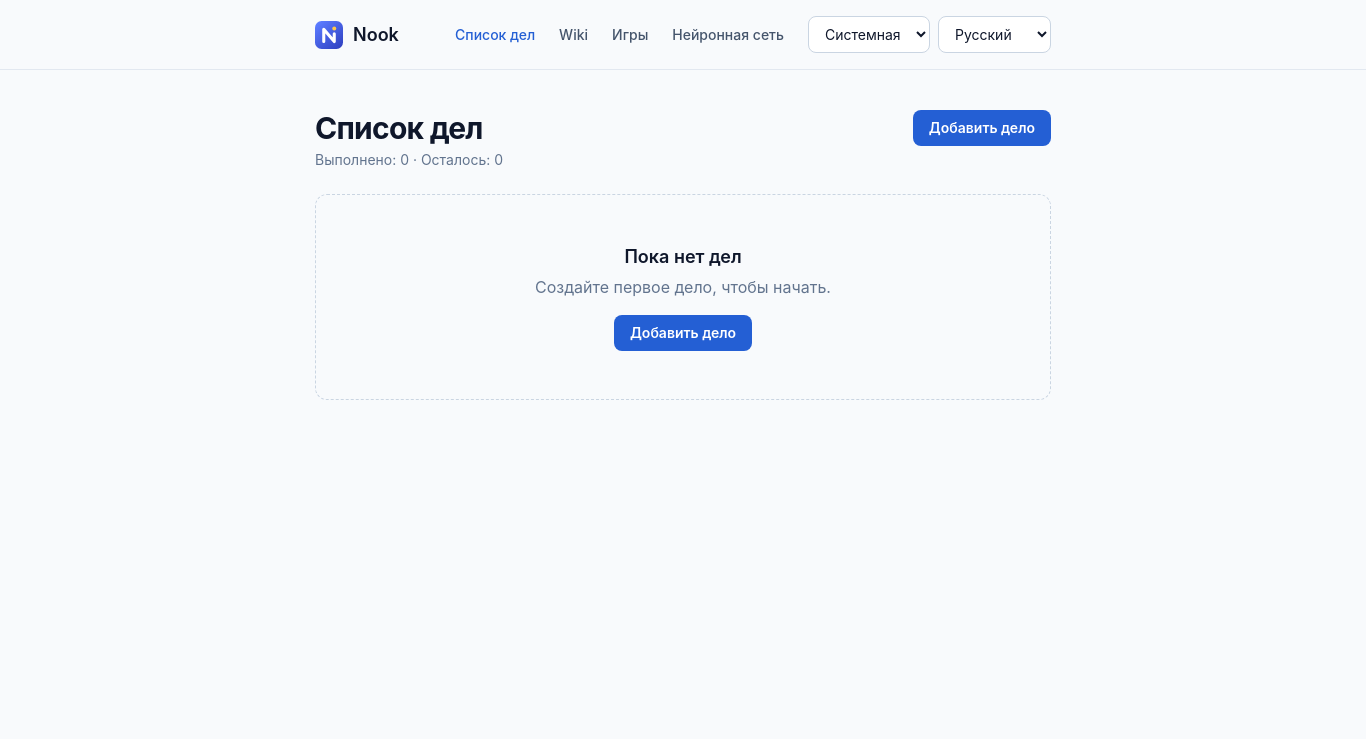
Scenario: /neural-network › opens from the navbar with the whole lab on the page
This screenshot has width=1366, height=739.
Click the link "Нейронная сеть" at (728,34), box [672,26,784,42]
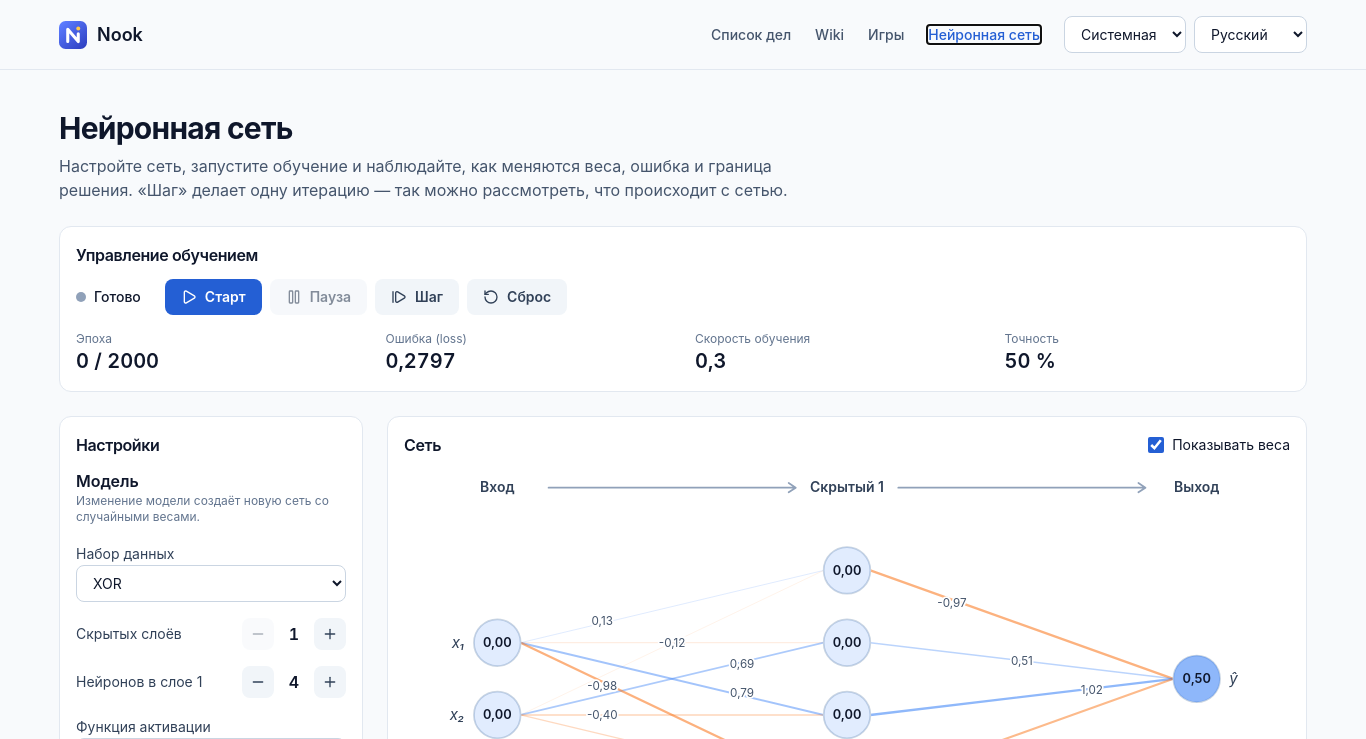
Expected: the heading "Нейронная сеть" is shown, [59,110,293,146]
Expected: the element named "Метрики" is shown, [76,331,1059,373]
Expected: the dropdown labelled "Набор данных" shows "XOR", [76,565,346,602]
